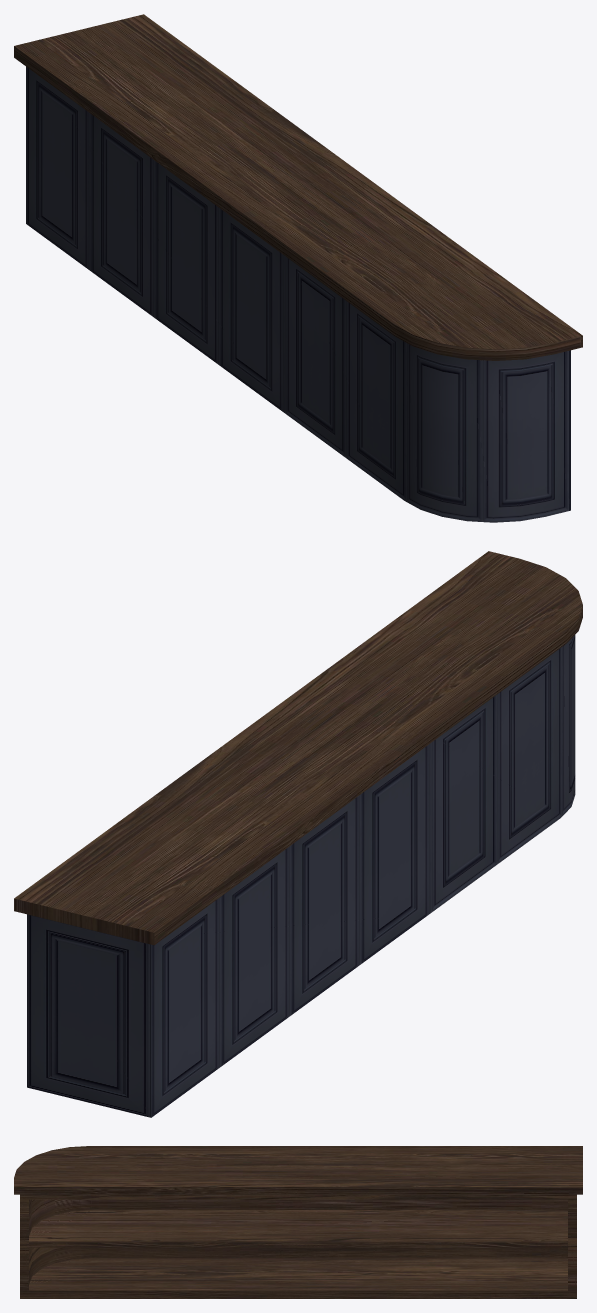
File: F_Counter_01.fbx
3 renders of one model, top to bottom at view 1: azimuth 30°, elevation 25°; view 2: azimuth 150°, elevation 25°; view 3: azimuth 270°, elevation 25°, orthographic. The views are drawn at different scales.
Visible parts, largest first — view 1: F_Counter; view 2: F_Counter; view 3: F_Counter.
Part boxes in pixels (box(x1,y1,x2,y2)): F_Counter: box(14, 14, 582, 522); F_Counter: box(14, 551, 582, 1117); F_Counter: box(14, 1146, 582, 1298).
Size of the model in its own units: 81.85 by 106 by 479.
